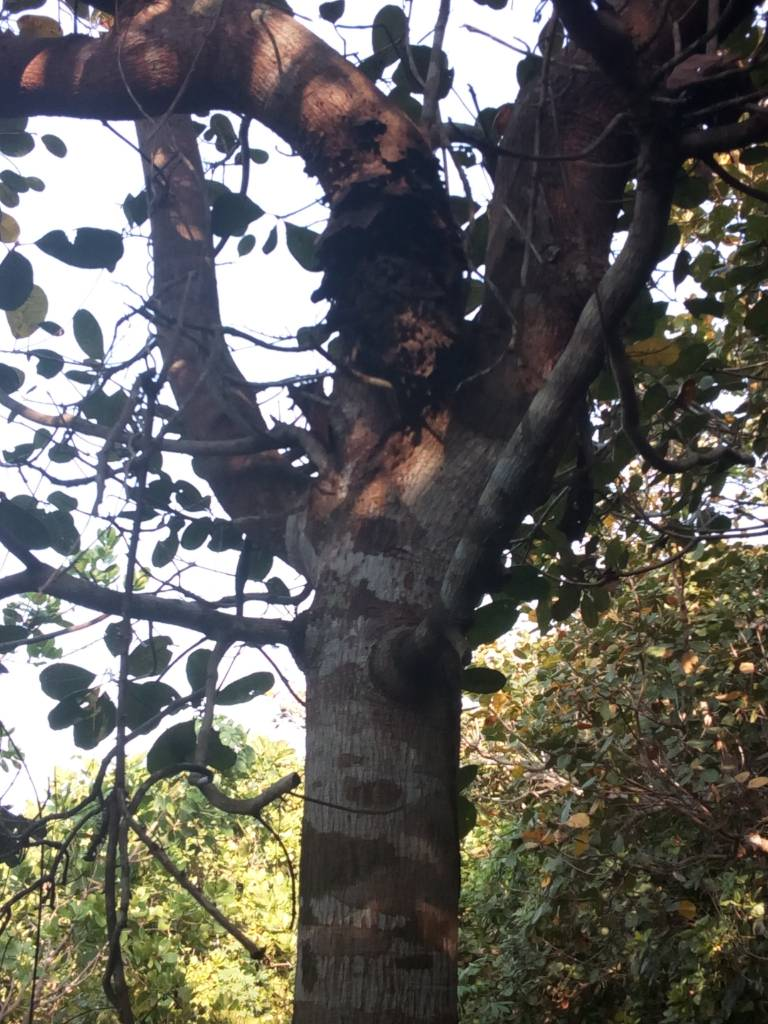Virose: (352, 163, 482, 427)
